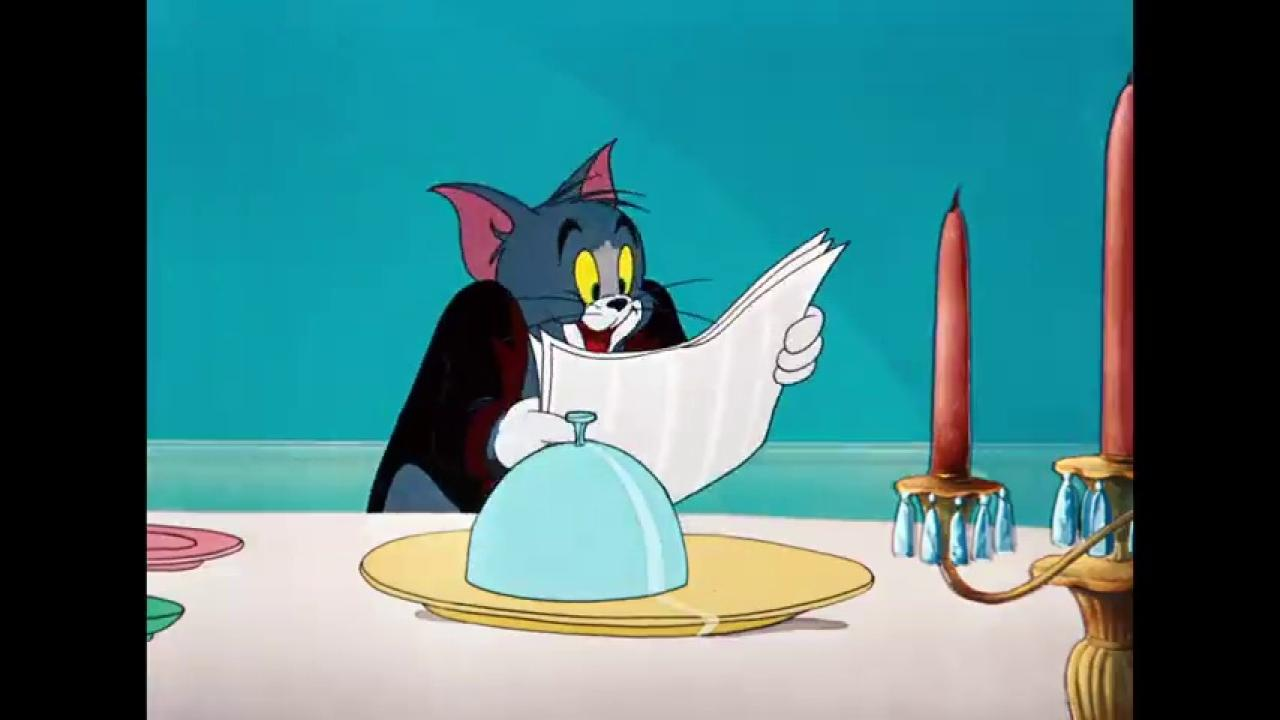Tom: (365, 135, 825, 514)
